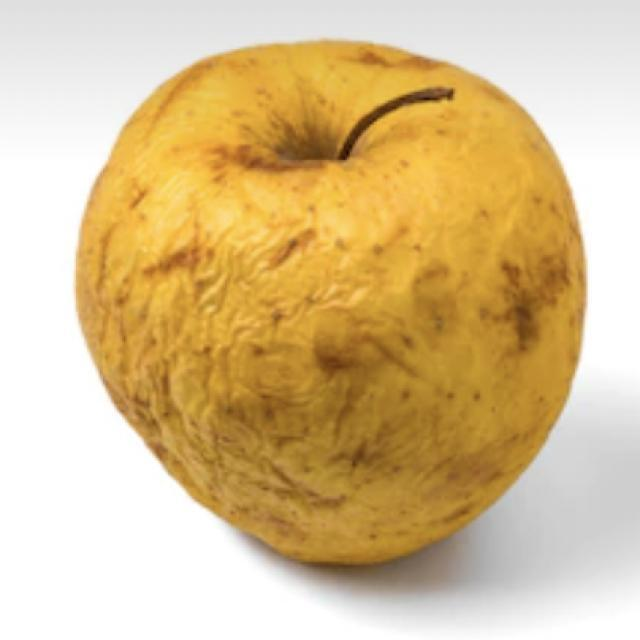Rotten: (75, 35, 590, 568)
